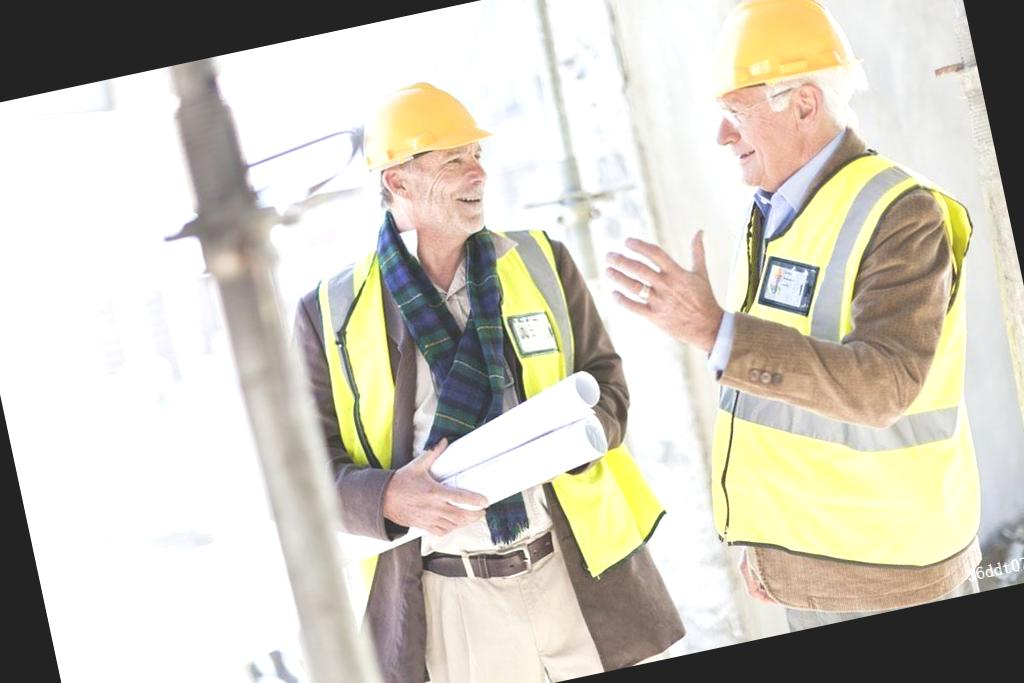helmet: (332, 55, 512, 194), (676, 0, 866, 110)
person: (229, 15, 698, 683), (575, 0, 1024, 649)
